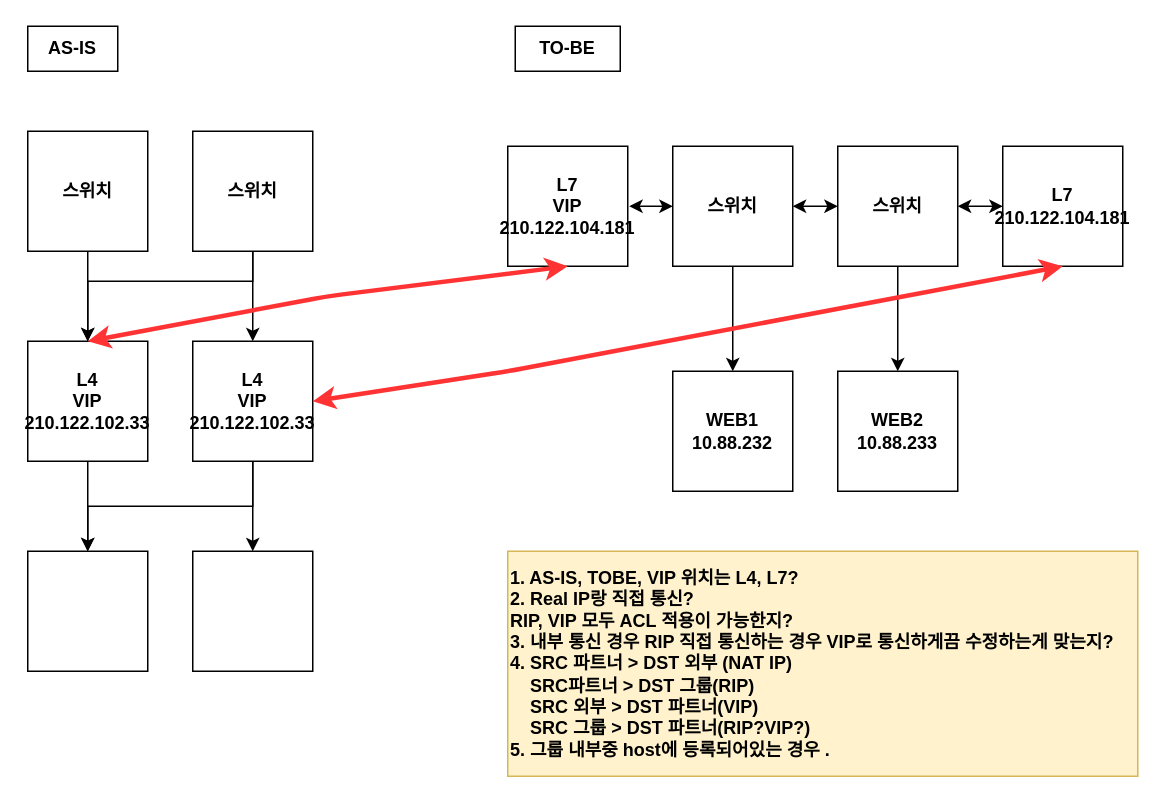
Image size: 1164x803. Some labels were removed from this diagram. Each missing label, with the centre of its shape:
WEB1 210.122.102.31: (87,610)
WEB2 210.122.102.32: (252,610)
